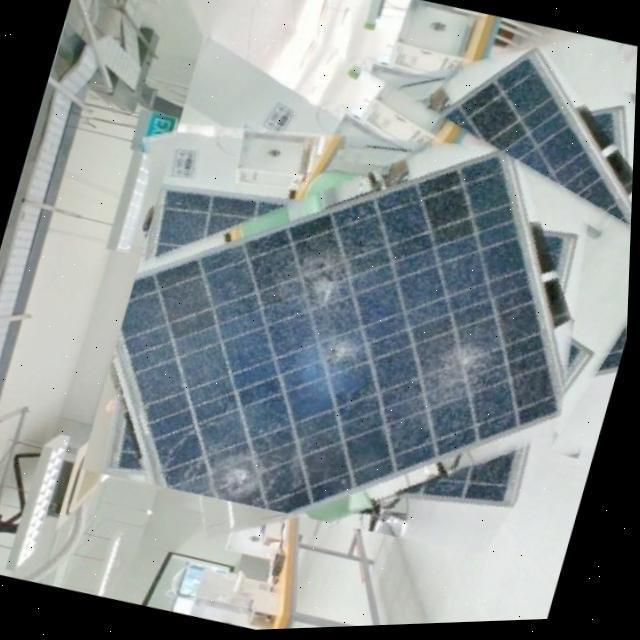Anomaly Solar Panel: (118, 151, 561, 516)
Structural Damage: (250, 245, 408, 389), (389, 300, 524, 442), (168, 407, 317, 515), (153, 192, 281, 258), (406, 452, 517, 503)
